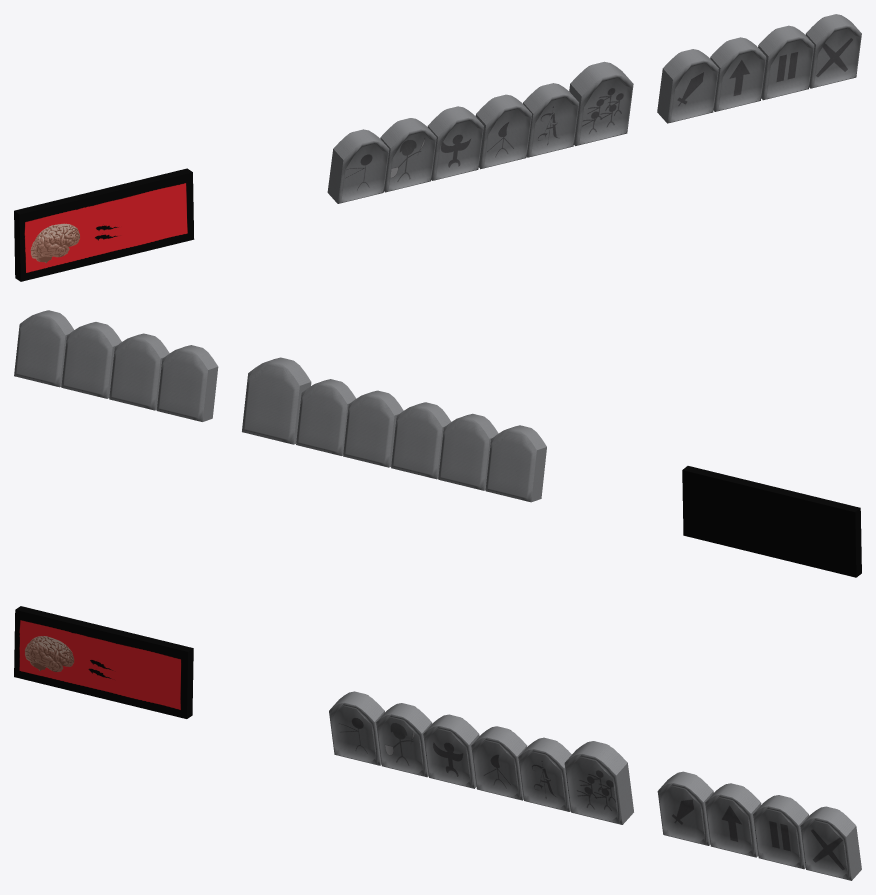
The model's file is UI_PASS2.fbx.
The picture shows the model from 3 angles, top to bottom: view 1: azimuth 30°, elevation 25°; view 2: azimuth 150°, elevation 25°; view 3: azimuth 330°, elevation 25°; orthographic projection.
Visible parts, largest first — view 1: pCube11, pCube16, pCube17, pCube5, pCube14, pCube19, pCube18, pCube20, pCube12, pCube13, pCube15; view 2: pCube11, pCube16, pCube5, pCube17, pCube14, pCube19, pCube18, pCube20, pCube12, pCube13, pCube15; view 3: pCube11, pCube16, pCube20, pCube13, pCube18, pCube17, pCube19, pCube12, pCube5, pCube14, pCube15.
Part boxes in pixels (bbox=[...]): pCube11: bbox=[14, 168, 194, 281]; pCube16: bbox=[569, 61, 633, 145]; pCube17: bbox=[657, 49, 718, 123]; pCube5: bbox=[327, 129, 389, 203]; pCube14: bbox=[475, 94, 531, 169]; pCube19: bbox=[758, 25, 814, 100]; pCube18: bbox=[710, 37, 766, 111]; pCube20: bbox=[805, 14, 861, 88]; pCube12: bbox=[380, 118, 436, 192]; pCube13: bbox=[427, 106, 483, 180]; pCube15: bbox=[523, 83, 578, 157]; pCube11: bbox=[682, 466, 861, 577]; pCube16: bbox=[242, 357, 311, 444]; pCube5: bbox=[485, 425, 546, 502]; pCube17: bbox=[156, 345, 218, 421]; pCube14: bbox=[343, 390, 403, 467]; pCube19: bbox=[61, 322, 121, 398]; pCube18: bbox=[109, 333, 169, 410]; pCube20: bbox=[14, 310, 73, 387]; pCube12: bbox=[438, 413, 498, 490]; pCube13: bbox=[391, 402, 451, 479]; pCube15: bbox=[296, 379, 356, 455]; pCube11: bbox=[14, 606, 193, 718]; pCube16: bbox=[564, 741, 633, 824]; pCube20: bbox=[800, 806, 861, 880]; pCube13: bbox=[423, 714, 479, 788]; pCube18: bbox=[705, 783, 761, 857]; pCube17: bbox=[657, 771, 713, 845]; pCube19: bbox=[753, 795, 809, 869]; pCube12: bbox=[376, 703, 432, 777]; pCube5: bbox=[329, 691, 384, 765]; pCube14: bbox=[471, 726, 527, 800]; pCube15: bbox=[518, 737, 571, 811].
Bounding box in the file's own units: 35.9 × 3.04 × 1.62.
